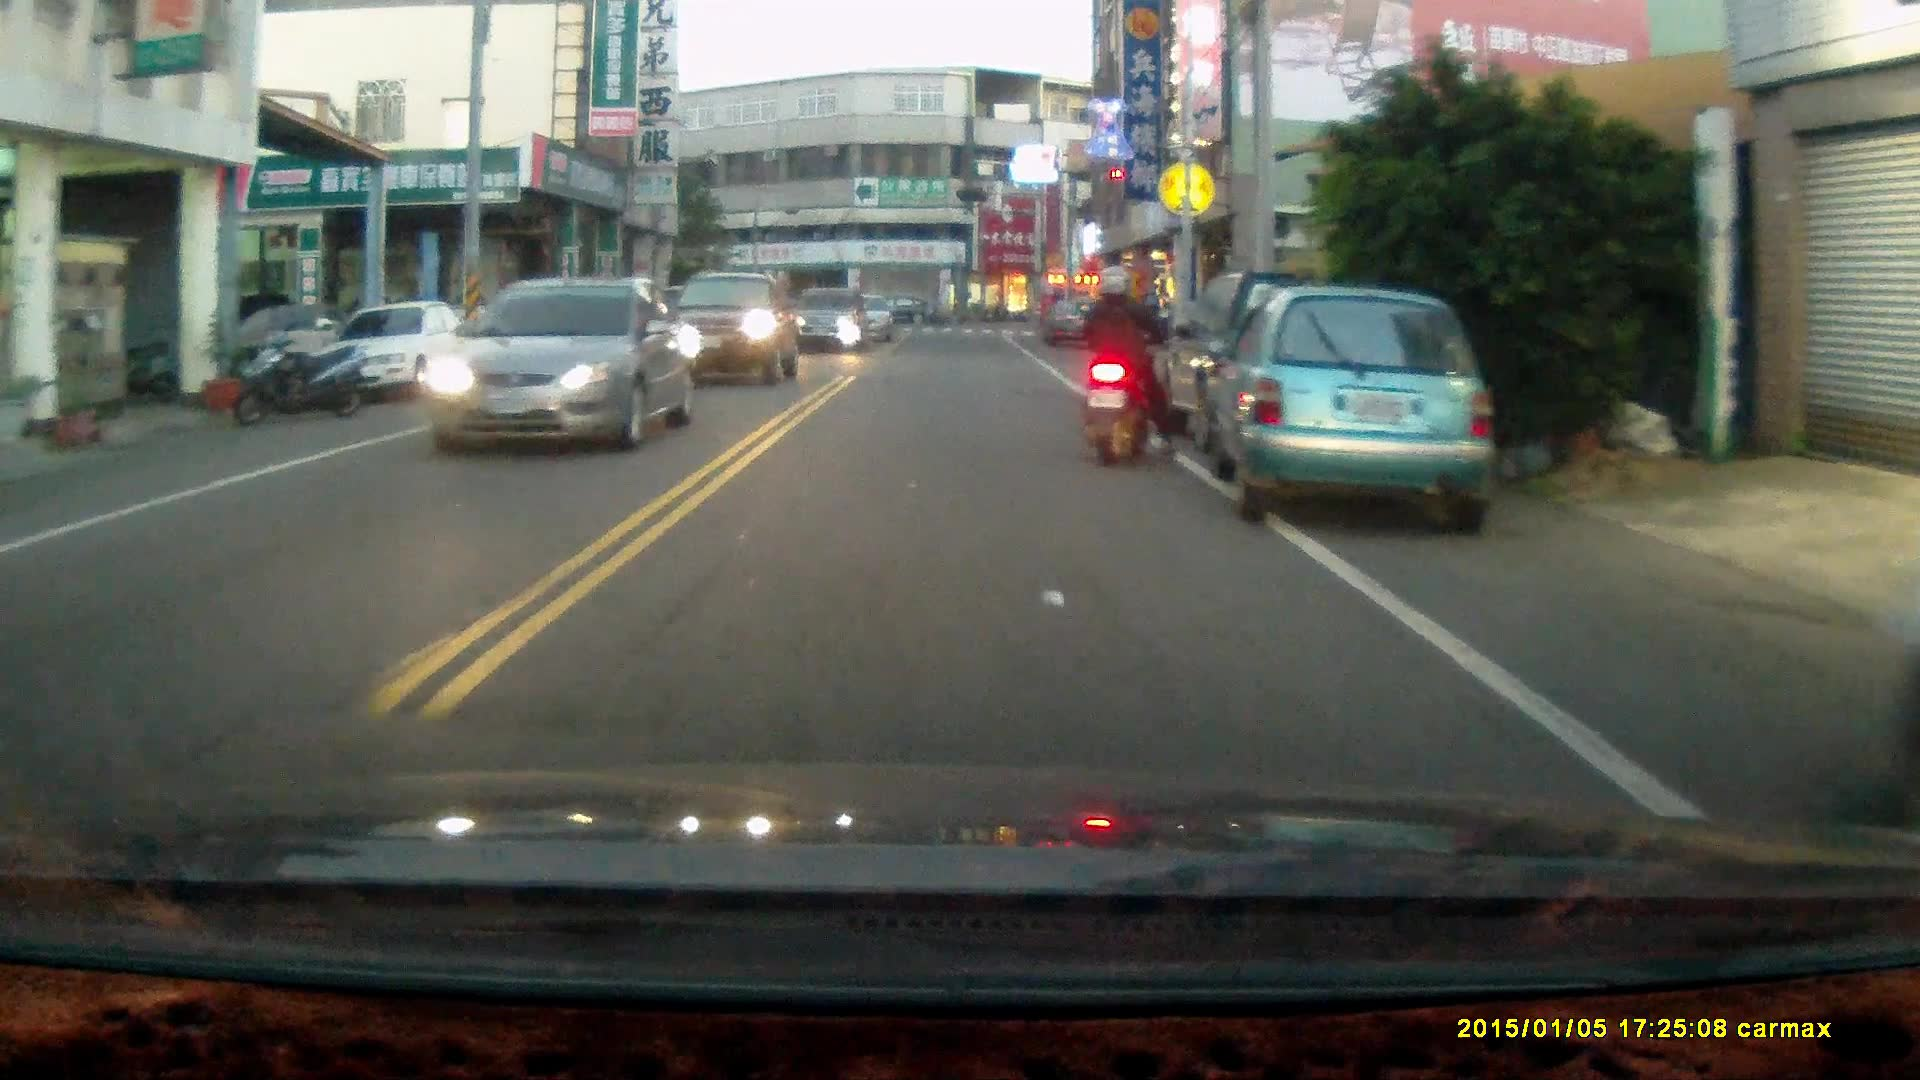rider: (1078, 263, 1179, 465)
vehicle: (1208, 285, 1509, 536), (1146, 269, 1412, 459), (423, 281, 696, 456), (302, 301, 499, 400), (664, 272, 806, 391), (785, 287, 871, 353)
